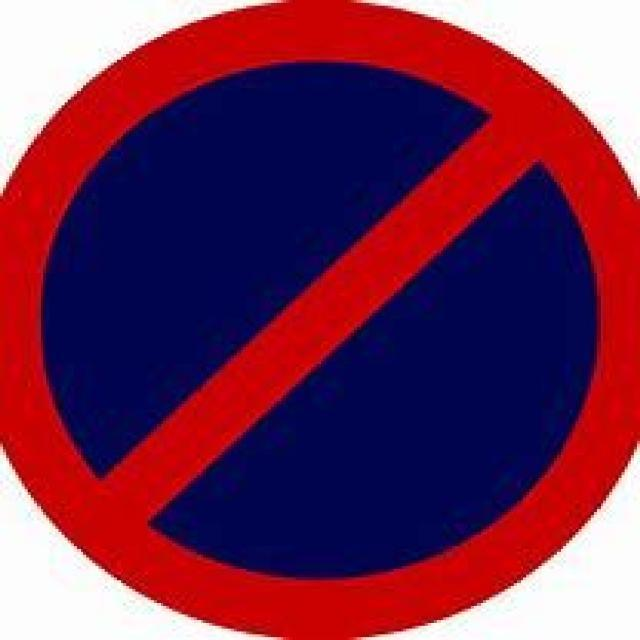no parking: (20, 17, 621, 620)
